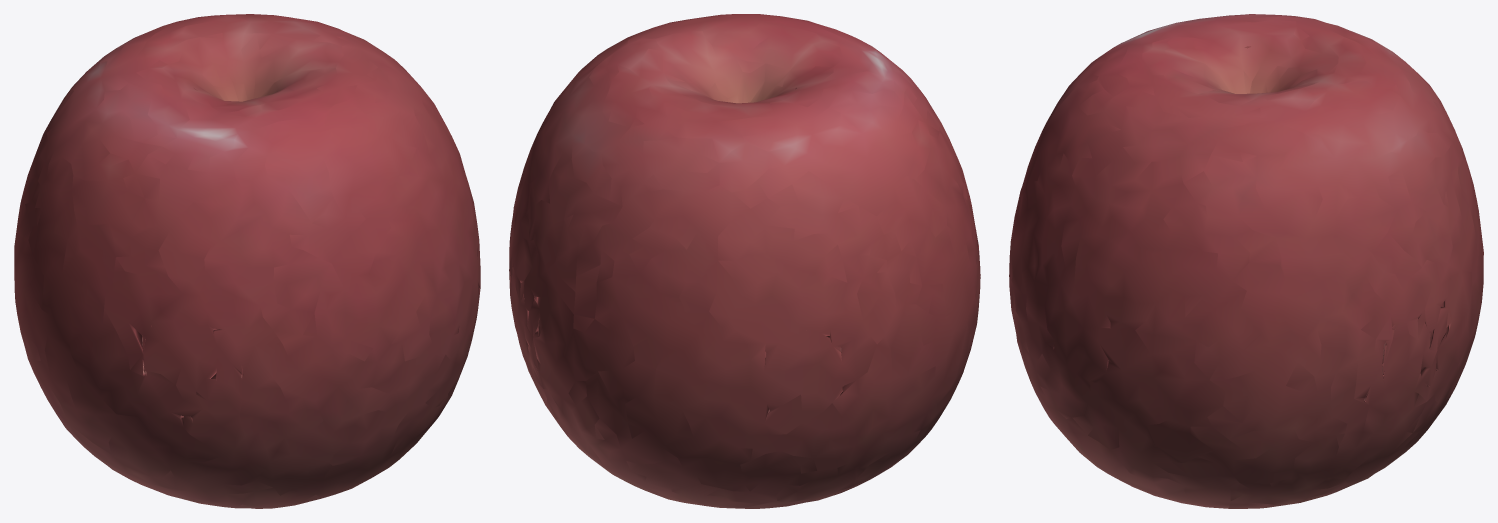
File: 0004_mask_005_toy_red_apple.glb
3 renders of one model, left to right at view 1: azimuth 30°, elevation 25°; view 2: azimuth 150°, elevation 25°; view 3: azimuth 270°, elevation 25°, orthographic.
Parts seen in each view (by area): view 1: mask_005_object; view 2: mask_005_object; view 3: mask_005_object.
Boxes of the visible parts, bbox=[...] form: mask_005_object: bbox=[14, 14, 480, 508]; mask_005_object: bbox=[509, 14, 980, 508]; mask_005_object: bbox=[1009, 14, 1483, 508].
Bounding box in the file's own units: 0.0982 × 0.0928 × 0.0979.
